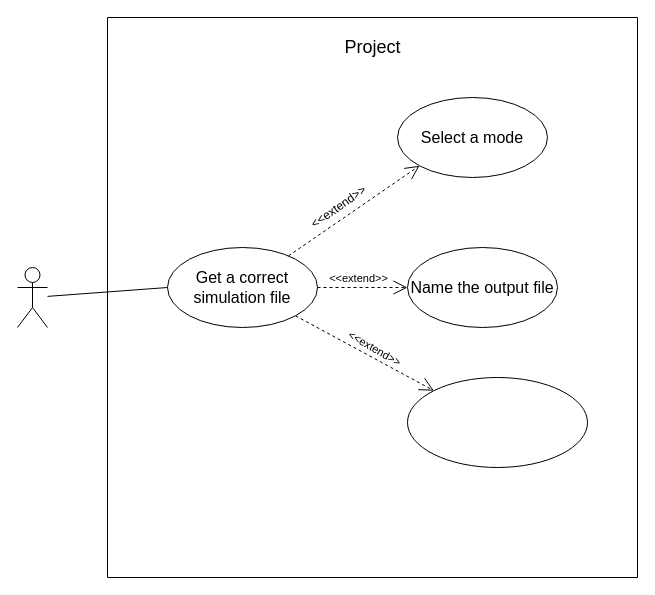
This 655x595 diagram has some shape labels left out. The shapes that lost their labels are listed below. From the top down, each one's centre as x and y in pixels, then its label:
At point 32,297: "User".
At point 497,422: "Compare the output file with the reference file".
